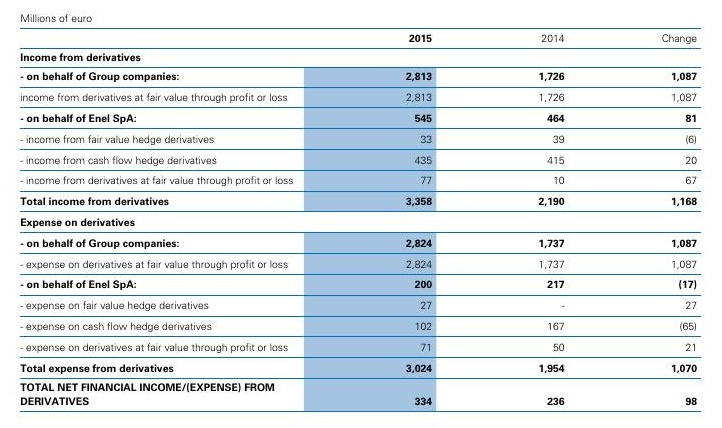table: (0, 0, 722, 428)
